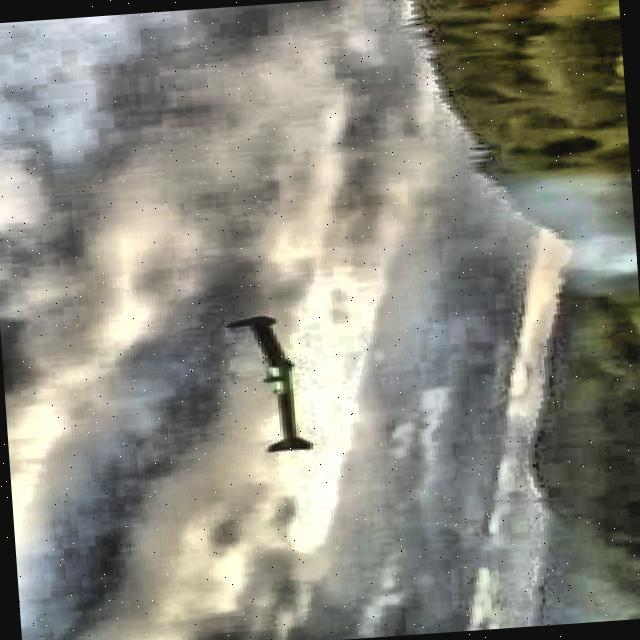iha: (256, 298, 300, 466)
